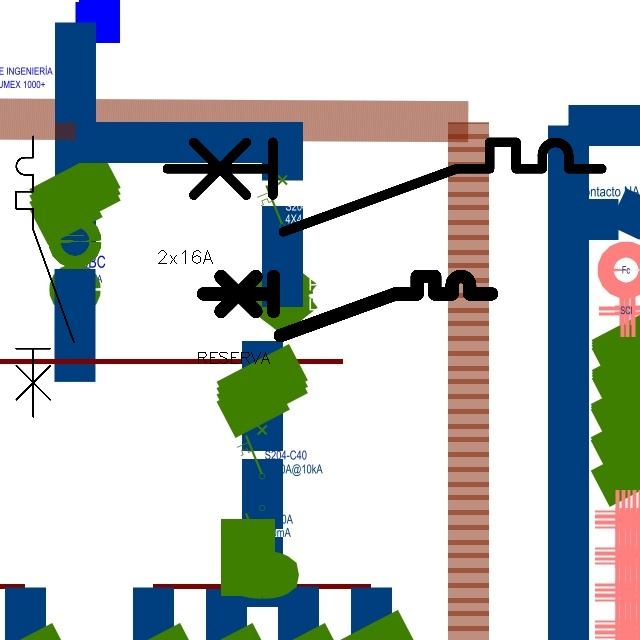interruptor_termomagnetico: (156, 131, 613, 243), (196, 269, 499, 343), (9, 129, 81, 424)
